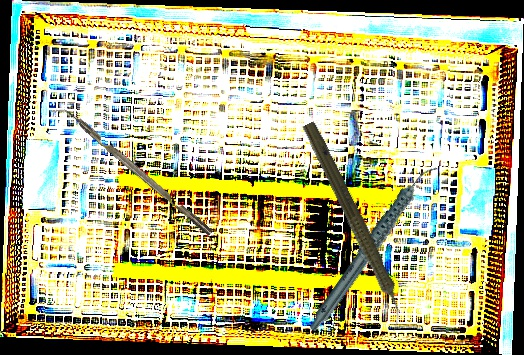Chopper: (49, 98, 214, 244)
Handpiece: (279, 161, 467, 334), (293, 118, 417, 333)
